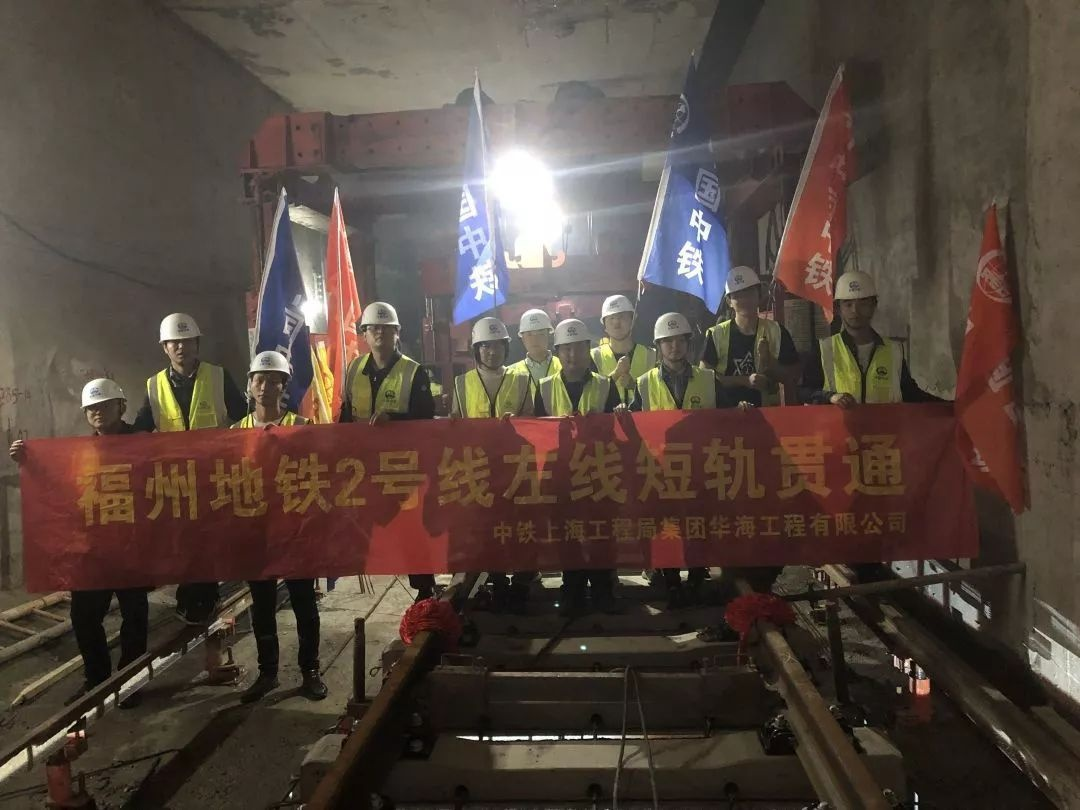white: (832, 268, 880, 329), (81, 376, 126, 430), (248, 349, 289, 407), (158, 311, 201, 366), (651, 310, 692, 364), (721, 267, 764, 317), (552, 318, 591, 373), (470, 316, 510, 369), (361, 302, 402, 353), (599, 292, 636, 344), (518, 308, 553, 357)
